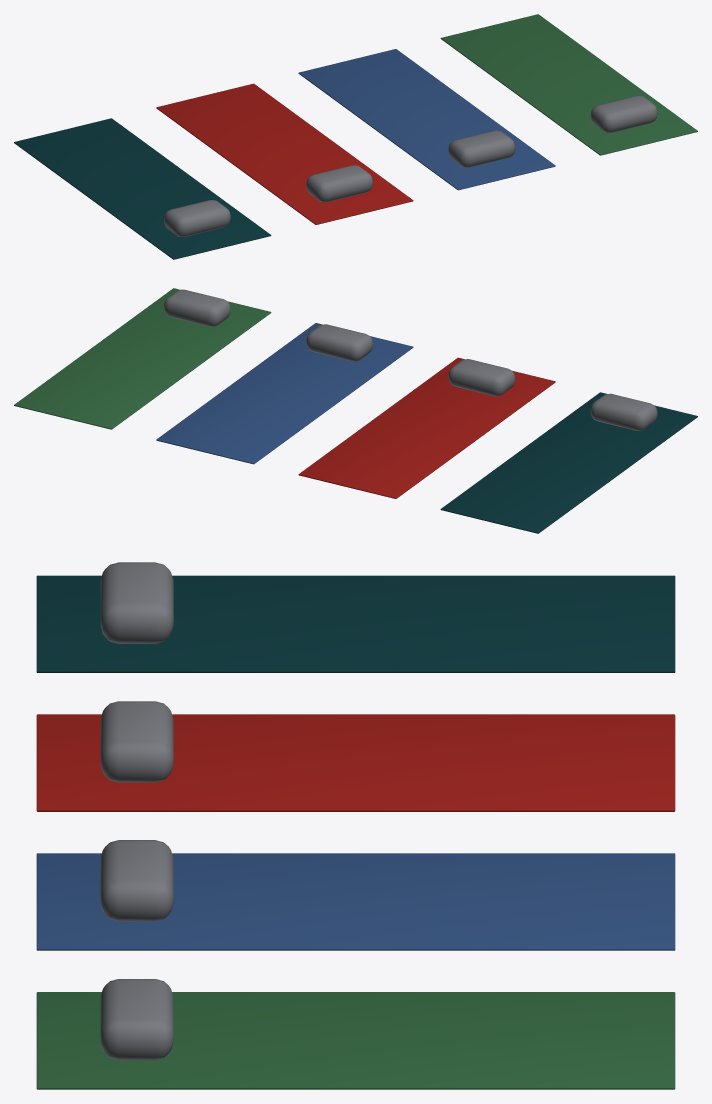
File: home.lodge.yoga_mats.glb
The picture shows the model from 3 angles, top to bottom: view 1: azimuth 30°, elevation 25°; view 2: azimuth 150°, elevation 25°; view 3: azimuth 270°, elevation 25°; orthographic projection. The views are drawn at different scales.
Visible parts, largest first — view 1: main__velvet_teal, main__fabric_blue, main__fabric_green, main__fabric_red, main__fabric_grey; view 2: main__velvet_teal, main__fabric_green, main__fabric_blue, main__fabric_red, main__fabric_grey; view 3: main__fabric_green, main__fabric_blue, main__fabric_red, main__velvet_teal, main__fabric_grey.
Boxes of the visible parts, left/top/right/bottom form: main__velvet_teal: left=14, top=118, right=271, bottom=259; main__fabric_blue: left=298, top=49, right=555, bottom=190; main__fabric_green: left=440, top=14, right=697, bottom=155; main__fabric_red: left=156, top=83, right=413, bottom=224; main__fabric_grey: left=164, top=95, right=657, bottom=237; main__velvet_teal: left=440, top=392, right=697, bottom=533; main__fabric_green: left=14, top=288, right=271, bottom=429; main__fabric_blue: left=156, top=323, right=413, bottom=464; main__fabric_red: left=298, top=357, right=555, bottom=498; main__fabric_grey: left=164, top=289, right=657, bottom=430; main__fabric_green: left=36, top=992, right=675, bottom=1089; main__fabric_blue: left=36, top=853, right=675, bottom=950; main__fabric_red: left=36, top=714, right=675, bottom=811; main__velvet_teal: left=36, top=575, right=675, bottom=672; main__fabric_grey: left=100, top=562, right=173, bottom=1060.
Bounding box in the file's own units: 3.32 × 0.128 × 1.75.
